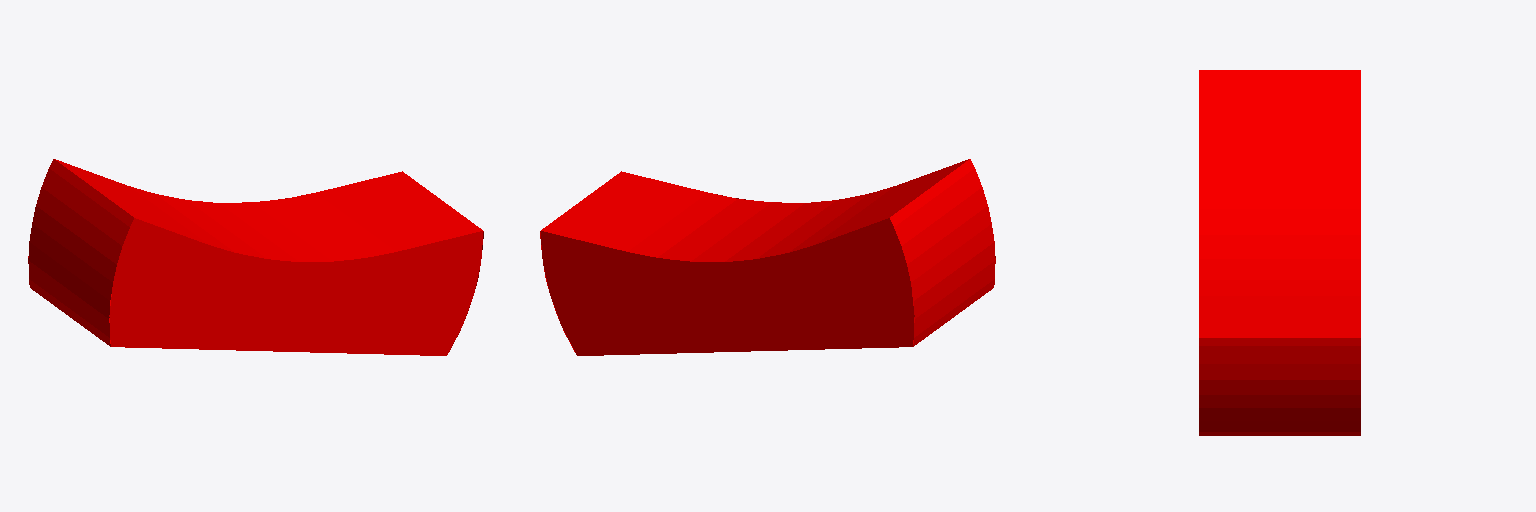
File: button-on.obj
The picture shows the model from 3 angles: view 1: azimuth 30°, elevation 25°; view 2: azimuth 150°, elevation 25°; view 3: azimuth 270°, elevation 25°; orthographic projection.
Visible parts, largest first — view 1: _DC_Brep; view 2: _DC_Brep; view 3: _DC_Brep.
Part boxes in pixels (x1,y1,x2,y2): _DC_Brep: (28, 159, 483, 355); _DC_Brep: (540, 159, 995, 355); _DC_Brep: (1199, 70, 1360, 435).
Size of the model in its own units: 8 by 4.38 by 3.